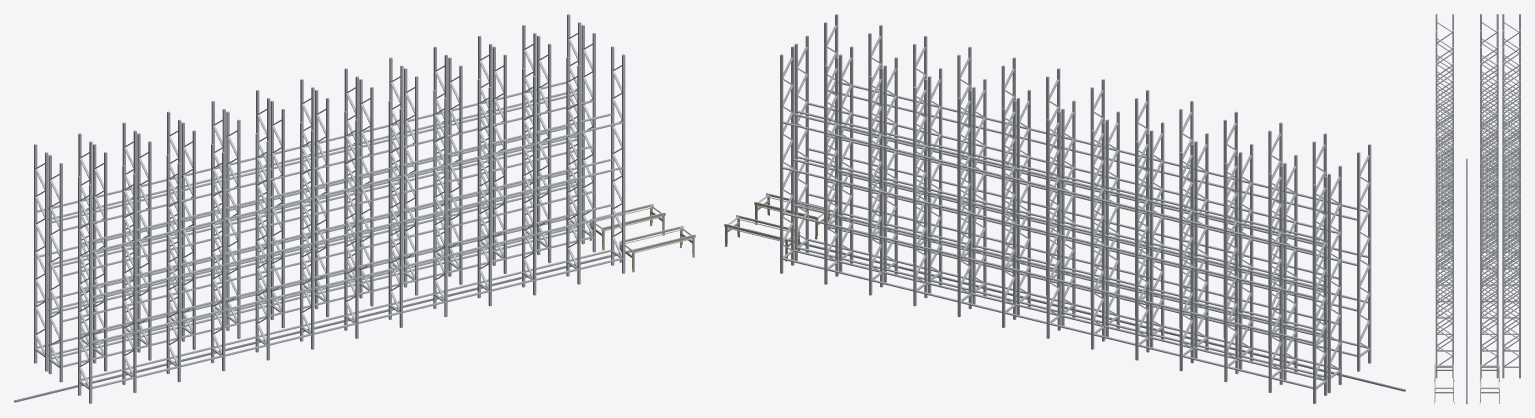
3 views of the same model, side by side, from view 1: azimuth 30°, elevation 25°; view 2: azimuth 150°, elevation 25°; view 3: azimuth 270°, elevation 25° (orthographic). The views are drawn at different scales.
Visible parts, largest first — view 1: 货架; view 2: 货架; view 3: 货架.
Boxes of the visible parts, <box> form: 货架: <box>14,14,695,403</box>; 货架: <box>724,14,1405,403</box>; 货架: <box>1434,14,1520,403</box>.
Size of the model in its own units: 31.2 by 9.86 by 4.68.
Materials: 8 (4 with a texture image).
